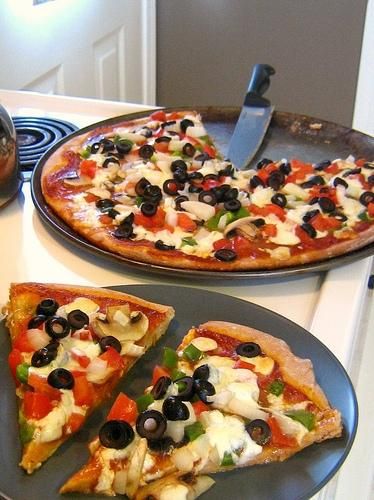bell pepper: (203, 206, 250, 233), (107, 391, 138, 426), (28, 373, 64, 402), (24, 390, 54, 420), (282, 410, 316, 432), (72, 376, 95, 408), (19, 409, 35, 452), (12, 328, 38, 353), (98, 346, 126, 369), (8, 348, 24, 388), (182, 342, 207, 364), (150, 365, 172, 386), (134, 393, 154, 415), (184, 422, 206, 442), (294, 225, 316, 243), (162, 348, 178, 372), (220, 447, 240, 466), (177, 212, 197, 230), (306, 212, 326, 230), (67, 412, 85, 432), (191, 399, 212, 416), (266, 378, 284, 397), (17, 362, 32, 384), (284, 171, 306, 185), (80, 160, 96, 179), (213, 238, 233, 252), (322, 216, 342, 230), (234, 235, 255, 248), (203, 178, 222, 192), (152, 142, 174, 154), (257, 168, 270, 188), (233, 360, 256, 371), (265, 204, 287, 215), (169, 368, 186, 382), (113, 135, 134, 146), (179, 236, 198, 248), (183, 135, 202, 146), (251, 206, 271, 216), (202, 144, 216, 158), (358, 209, 374, 221), (324, 162, 338, 175), (150, 110, 165, 122), (264, 163, 280, 173), (78, 356, 91, 368), (265, 224, 276, 238), (98, 214, 113, 224), (198, 136, 213, 146), (150, 128, 164, 138), (168, 183, 184, 191), (77, 150, 90, 159), (354, 158, 365, 168), (136, 196, 144, 209), (368, 202, 374, 218), (312, 185, 328, 191), (83, 144, 92, 154), (136, 138, 147, 146), (354, 174, 365, 182), (79, 332, 89, 340), (194, 144, 203, 152), (170, 150, 182, 156), (178, 132, 186, 141), (180, 154, 190, 160), (219, 176, 226, 184), (189, 167, 202, 171), (150, 156, 156, 164), (318, 192, 325, 198)
mushroom: (91, 305, 149, 341), (135, 471, 197, 500), (126, 438, 148, 500), (222, 216, 266, 242), (63, 168, 93, 188), (118, 133, 146, 143), (336, 229, 360, 239), (146, 121, 164, 131), (100, 180, 115, 192), (336, 160, 354, 168)
tomato: (105, 391, 139, 428), (28, 372, 64, 403), (266, 416, 298, 448), (24, 390, 56, 421), (98, 346, 128, 373), (134, 206, 166, 229), (72, 375, 95, 407), (250, 204, 287, 222), (60, 412, 85, 438), (9, 349, 24, 389), (14, 328, 36, 353), (151, 364, 171, 386), (181, 136, 201, 156), (308, 212, 326, 232), (294, 225, 314, 243), (177, 213, 198, 230), (80, 160, 96, 180), (70, 352, 90, 368), (234, 234, 254, 249), (192, 400, 210, 416), (70, 330, 93, 342), (305, 193, 330, 204), (213, 238, 232, 252), (233, 360, 256, 371), (256, 168, 270, 186), (202, 144, 217, 158), (150, 110, 166, 123), (324, 163, 340, 175), (148, 126, 164, 138), (264, 164, 280, 175), (300, 164, 316, 175), (152, 142, 169, 152), (265, 224, 277, 238), (283, 175, 297, 187), (290, 159, 305, 168), (204, 179, 220, 187), (168, 183, 184, 191), (294, 170, 306, 180), (355, 158, 366, 167), (354, 173, 365, 182), (168, 112, 180, 120), (368, 202, 374, 218), (248, 204, 258, 213), (129, 149, 140, 156), (328, 188, 336, 197), (178, 132, 186, 140), (220, 175, 227, 183), (308, 190, 319, 194), (360, 181, 368, 186)
